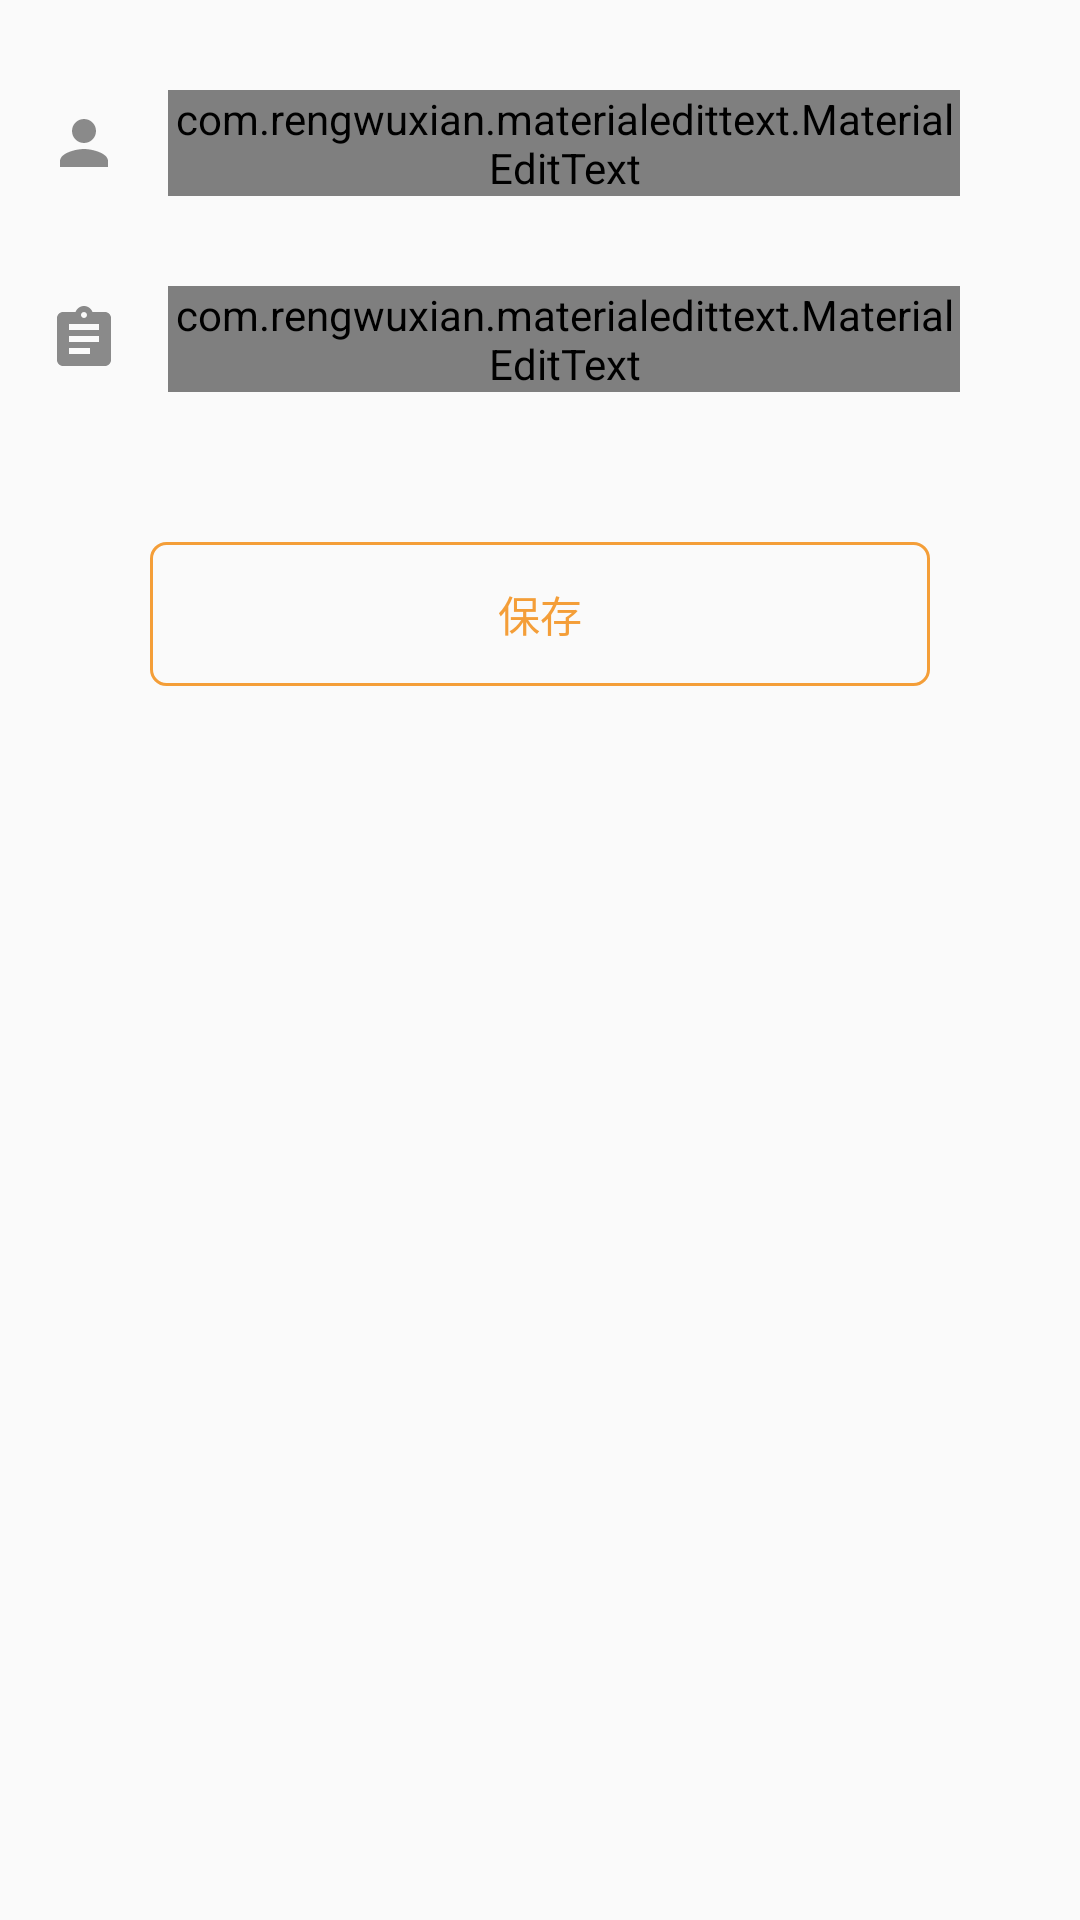

Where icons sit on this 1080 × 1920 app screen, as (x1, y1, x2, y2):
assignment: (57, 306, 111, 366)
person: (60, 119, 108, 167)
